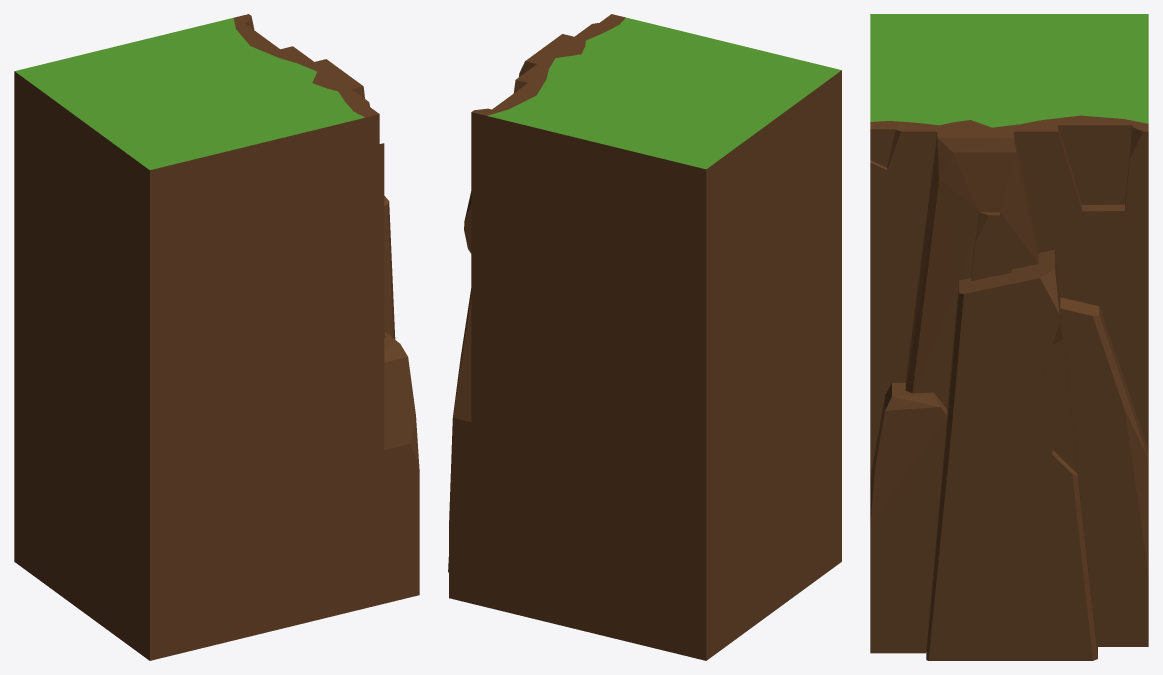
File: Cliff x2 3.fbx
3 renders of one model, left to right at view 1: azimuth 30°, elevation 25°; view 2: azimuth 150°, elevation 25°; view 3: azimuth 270°, elevation 25°, orthographic. The views are drawn at different scales.
Parts seen in each view (by area): view 1: Cliff x2 3; view 2: Cliff x2 3; view 3: Cliff x2 3.
Boxes of the visible parts, x1=… form: Cliff x2 3: x1=14, y1=14, x2=419, y2=660; Cliff x2 3: x1=448, y1=14, x2=841, y2=660; Cliff x2 3: x1=870, y1=14, x2=1148, y2=660.
Bounding box in the file's own units: 243 × 400 × 200.
